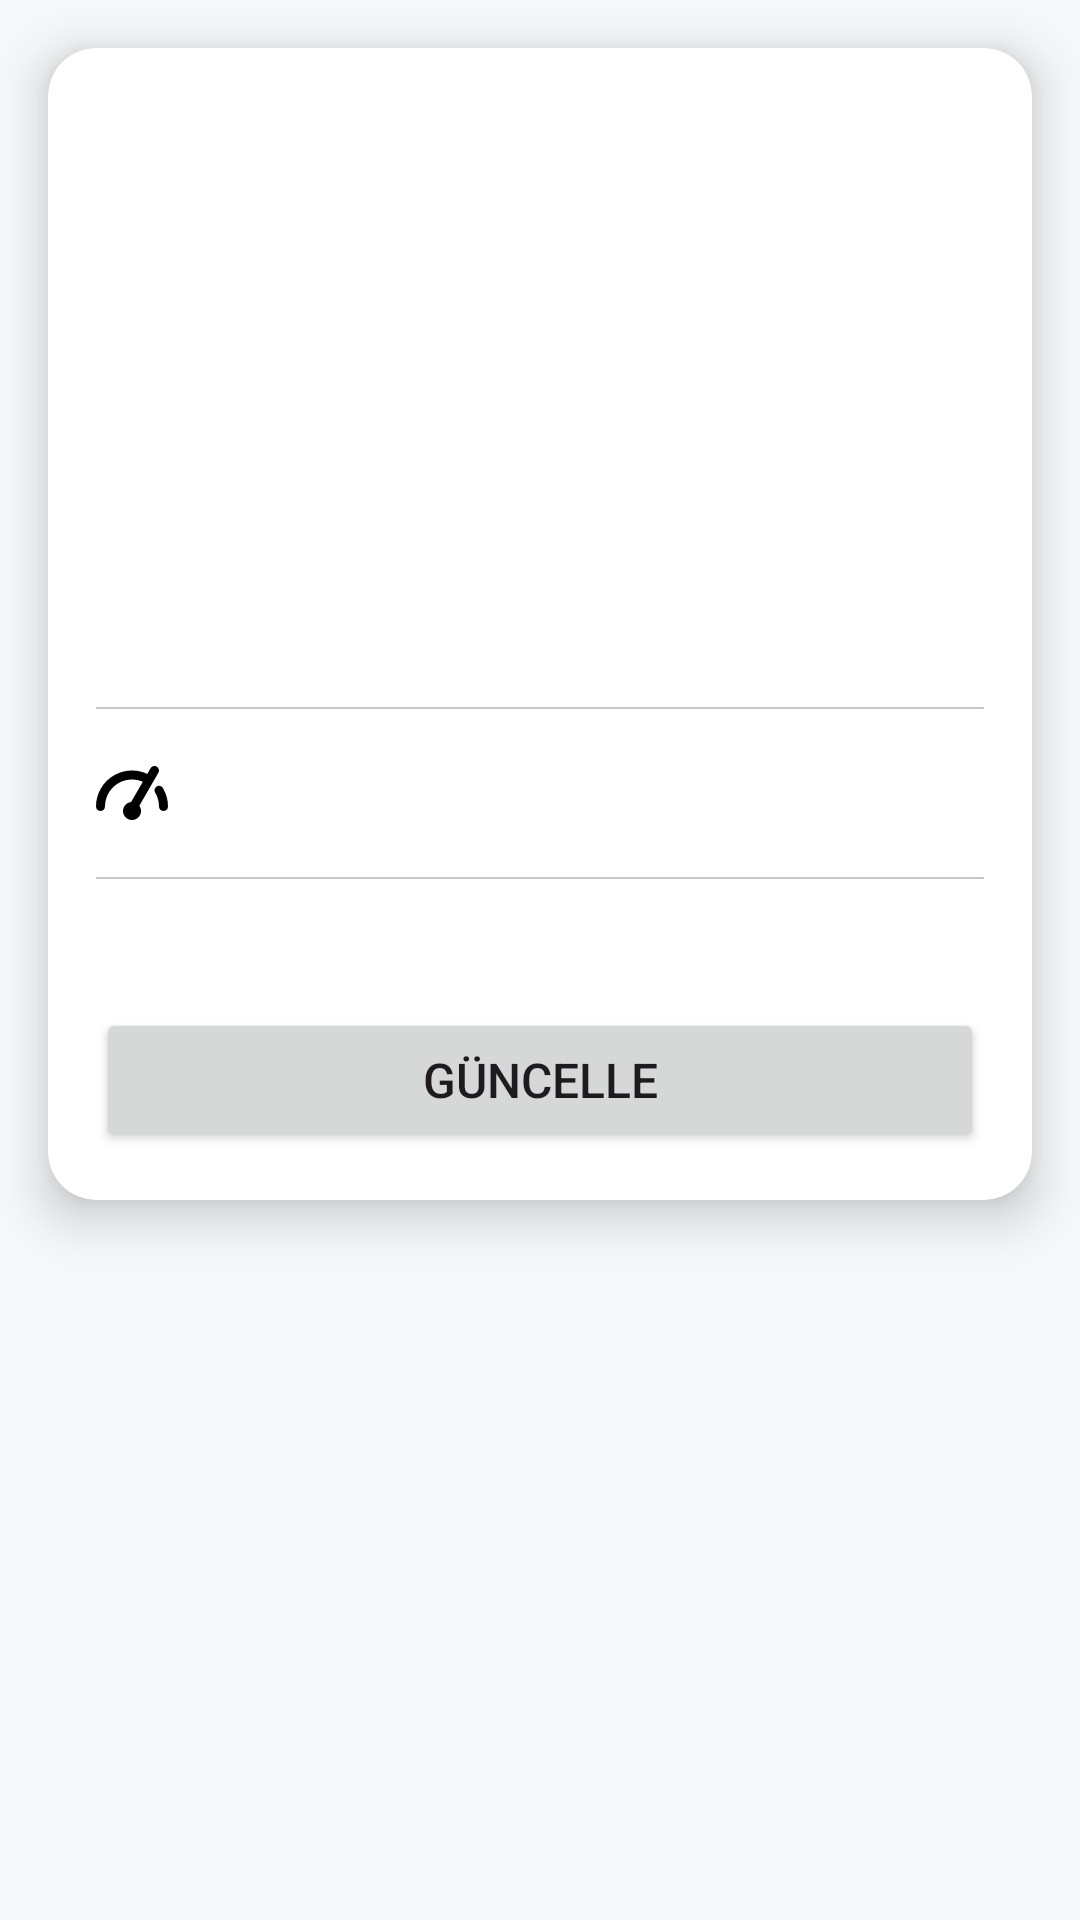

Where to tap for icons on this 1080*1920 app screen, as (x,y):
kilometer: (132,793)
